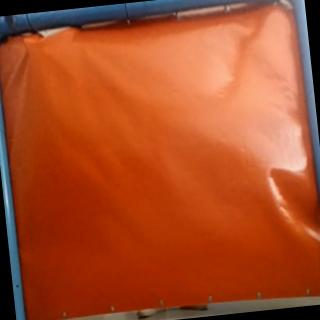Hit-hRxx: (13, 34, 36, 52)
